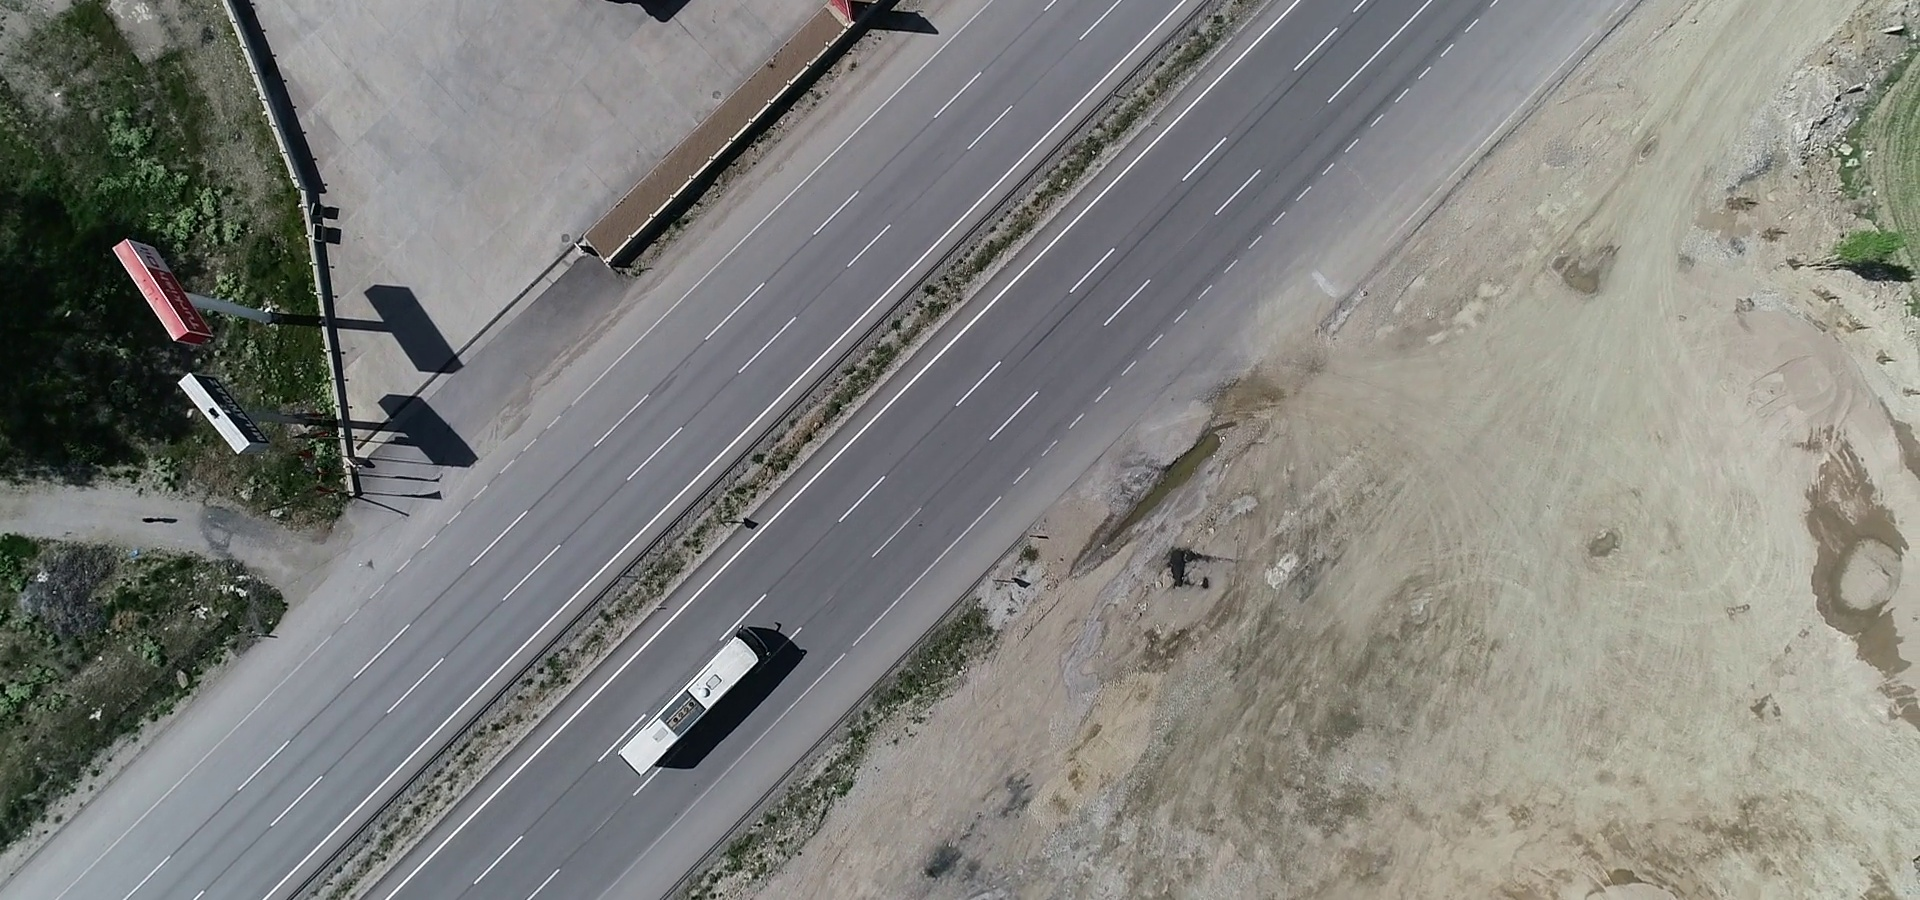otobus: (613, 620, 778, 779)
